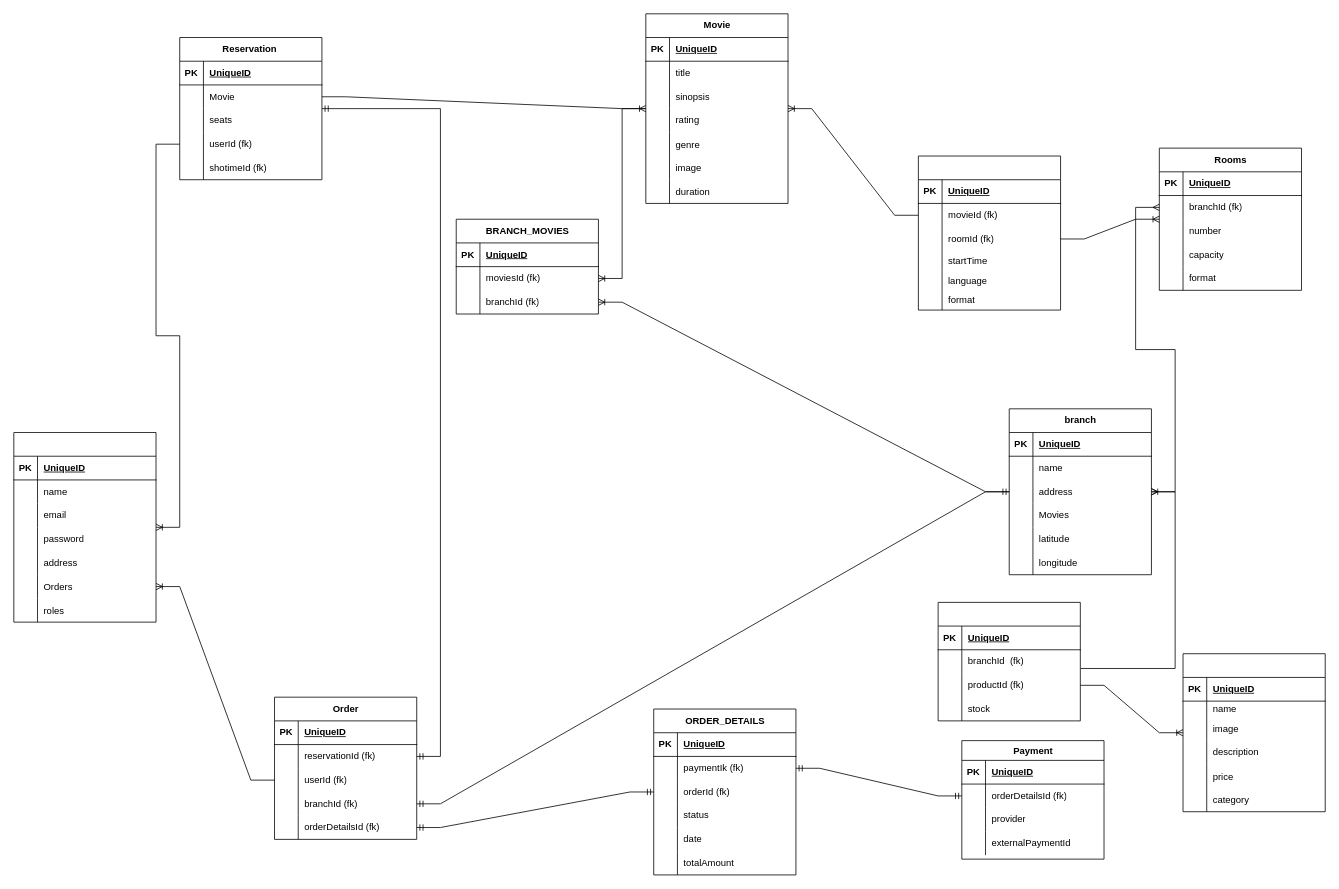
This 1339x889 diagram has some shape labels left out. Here are the shapes that lost their labels. From the top down, the box of each, then its label:
(918, 155, 1061, 310): showtimes
(13, 432, 156, 622): User
(937, 602, 1080, 721): BRANCH_PRODUCTS
(1182, 653, 1325, 812): Product
